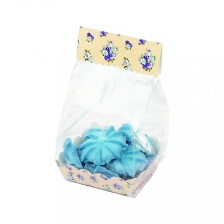snack: (43, 19, 177, 203)
